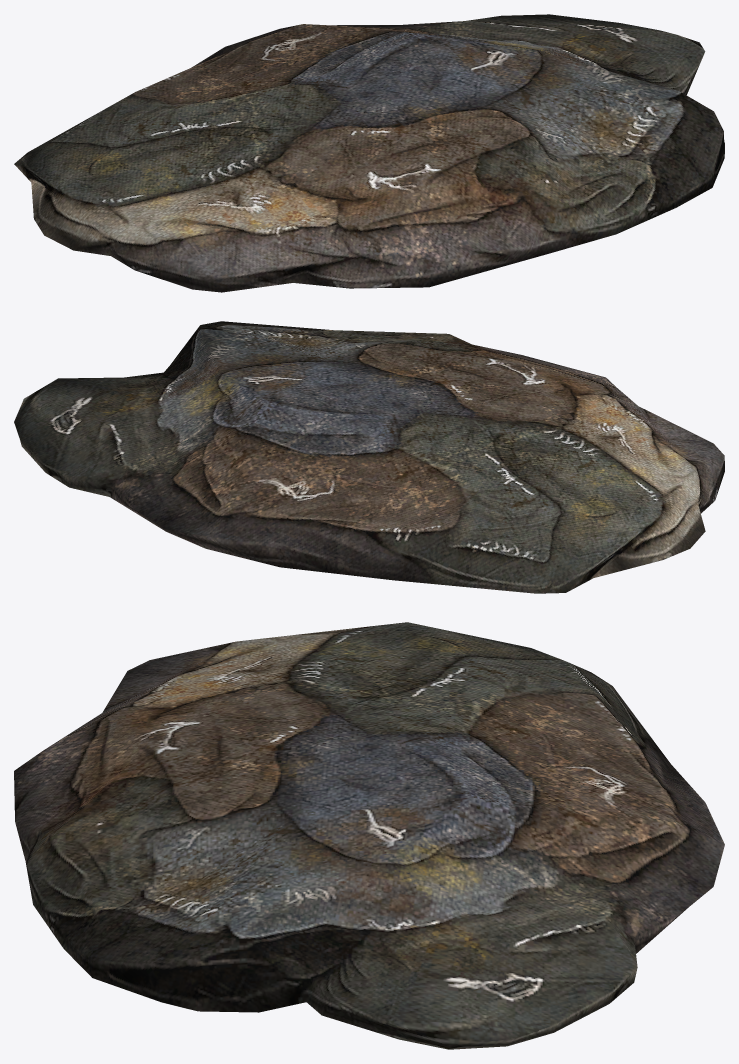
The model's file is pile_of_survivor_clothes_01.dae.
3 renders of one model, top to bottom at view 1: azimuth 30°, elevation 25°; view 2: azimuth 150°, elevation 25°; view 3: azimuth 270°, elevation 25°, orthographic. The views are drawn at different scales.
Visible parts, largest first — view 1: pile_of_survivor_clothes_01; view 2: pile_of_survivor_clothes_01; view 3: pile_of_survivor_clothes_01.
Part boxes in pixels (box(x1,y1,x2,y2)): pile_of_survivor_clothes_01: box(14, 14, 724, 292); pile_of_survivor_clothes_01: box(14, 321, 724, 593); pile_of_survivor_clothes_01: box(14, 622, 724, 1049).
Bounding box in the file's own units: 1.09 × 0.117 × 0.7866.
